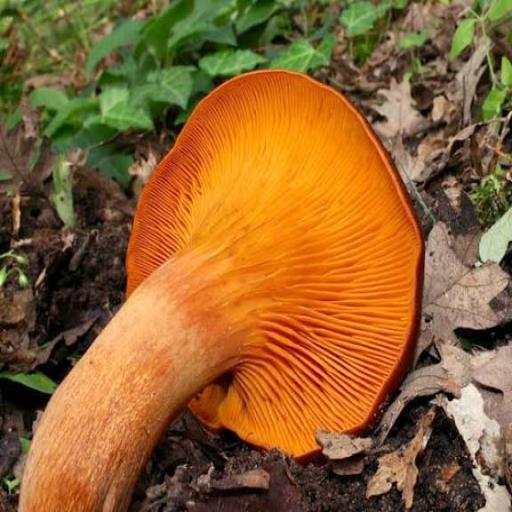Jack O Lantern Mushroom: (0, 29, 512, 512)
